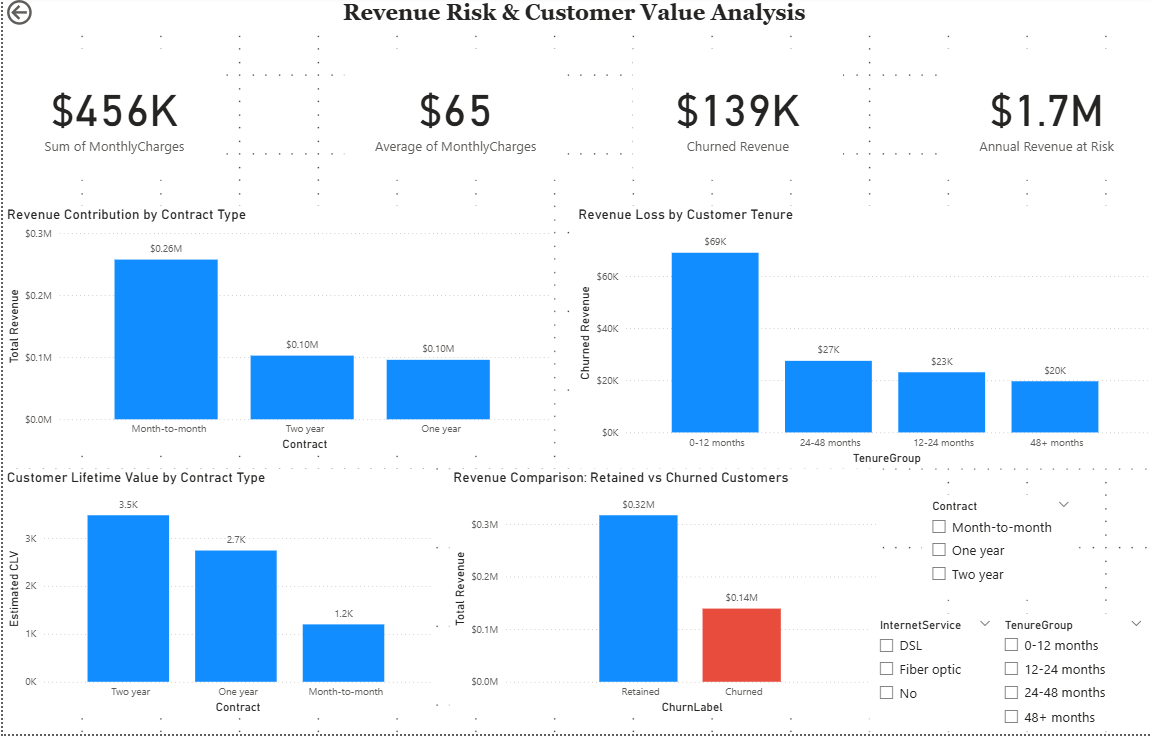

The dashboard page shown, as its layout file describes it:
{"tool":"powerbi","page":{"name":"Revenue & Customer Value Analysis","canvas":[1400,900],"ordinal":2},"visuals":[{"type":"textbox","box":[-8,0,1408,48],"z":0},{"type":"card","fields":{"Values":["Sum(clean_telco_churn.MonthlyCharges)"]},"box":[0,64,272,160],"z":1000},{"type":"actionButton","box":[0,0,100,40],"z":2000},{"type":"card","fields":{"Values":["Avg(clean_telco_churn.MonthlyCharges)"]},"box":[416,64,272,160],"z":3000},{"type":"card","fields":{"Values":["clean_telco_churn.Churned Revenue"]},"box":[768,64,256,160],"z":4000},{"type":"card","fields":{"Values":["clean_telco_churn.Annual Revenue at Risk"]},"box":[1144,64,256,160],"z":5000},{"type":"clusteredColumnChart","title":"Revenue Contribution by Contract Type","fields":{"Category":["clean_telco_churn.Contract"],"Y":["clean_telco_churn.Total Revenue"]},"box":[0,256,672,304],"z":6000},{"type":"clusteredColumnChart","title":"Revenue Loss by Customer Tenure","fields":{"Category":["clean_telco_churn.TenureGroup"],"Y":["clean_telco_churn.Churned Revenue"]},"box":[696,256,704,320],"z":7000},{"type":"clusteredColumnChart","title":"Customer Lifetime Value by Contract Type","fields":{"Category":["clean_telco_churn.Contract"],"Y":["clean_telco_churn.Estimated CLV"]},"box":[0,576,528,304],"z":8000},{"type":"clusteredColumnChart","title":" Revenue Comparison:  Retained vs Churned Customers","fields":{"Category":["clean_telco_churn.ChurnLabel"],"Y":["clean_telco_churn.Total Revenue"]},"box":[544,576,528,304],"z":9000},{"type":"slicer","fields":{"Values":["clean_telco_churn.Contract"]},"box":[1120,608,192,128],"z":10000},{"type":"slicer","fields":{"Values":["clean_telco_churn.InternetService"]},"box":[1056,752,160,144],"z":11000},{"type":"slicer","fields":{"Values":["clean_telco_churn.TenureGroup"]},"box":[1208,752,192,144],"z":12000}]}

Visuals, with their boxes in screenshot pixels (x1, y1, x2, y2), scaled from the page's 1400x900 canvas onto the 1151x738 screenshot:
textbox: 0 0 1150 39
card - Sum(clean_telco_churn.MonthlyCharges): 0 52 224 184
actionButton: 0 0 82 33
card - Avg(clean_telco_churn.MonthlyCharges): 342 52 566 184
card - clean_telco_churn.Churned Revenue: 631 52 842 184
card - clean_telco_churn.Annual Revenue at Risk: 941 52 1150 184
"Revenue Contribution by Contract Type" clusteredColumnChart: 0 210 552 459
"Revenue Loss by Customer Tenure" clusteredColumnChart: 572 210 1150 472
"Customer Lifetime Value by Contract Type" clusteredColumnChart: 0 472 434 722
" Revenue Comparison:  Retained vs Churned Customers" clusteredColumnChart: 447 472 881 722
slicer - clean_telco_churn.Contract: 921 499 1079 604
slicer - clean_telco_churn.InternetService: 868 617 1000 735
slicer - clean_telco_churn.TenureGroup: 993 617 1150 735
